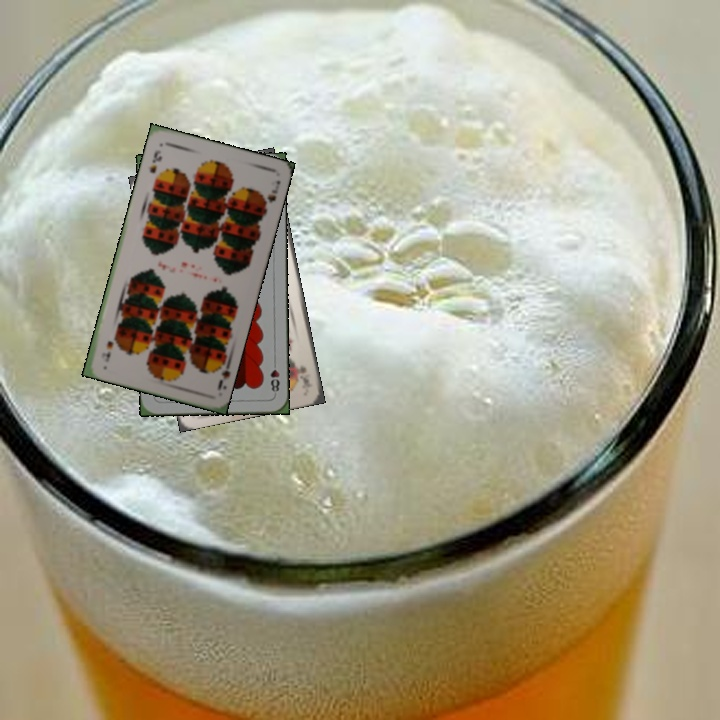H8: (266, 357, 282, 397)
S9: (212, 355, 234, 393), (145, 146, 165, 176)
SK: (293, 361, 311, 386)
